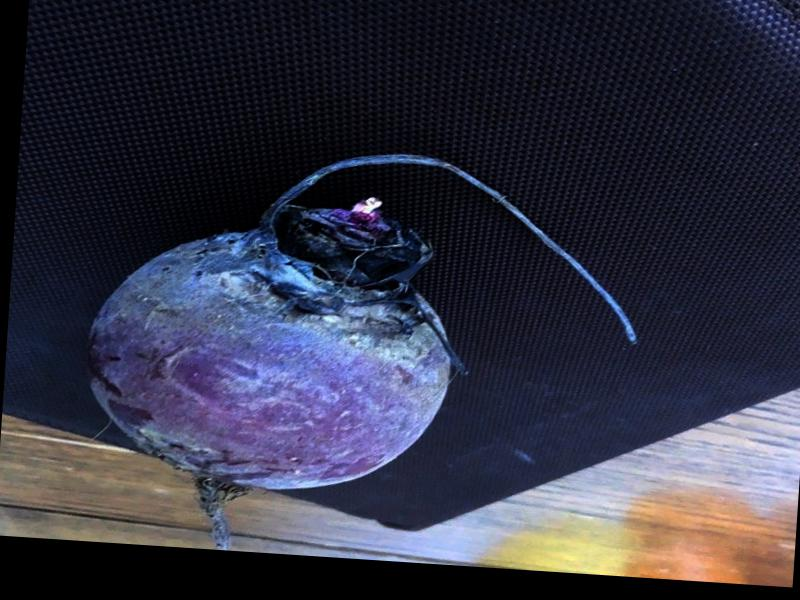Beet: (73, 133, 649, 574)
